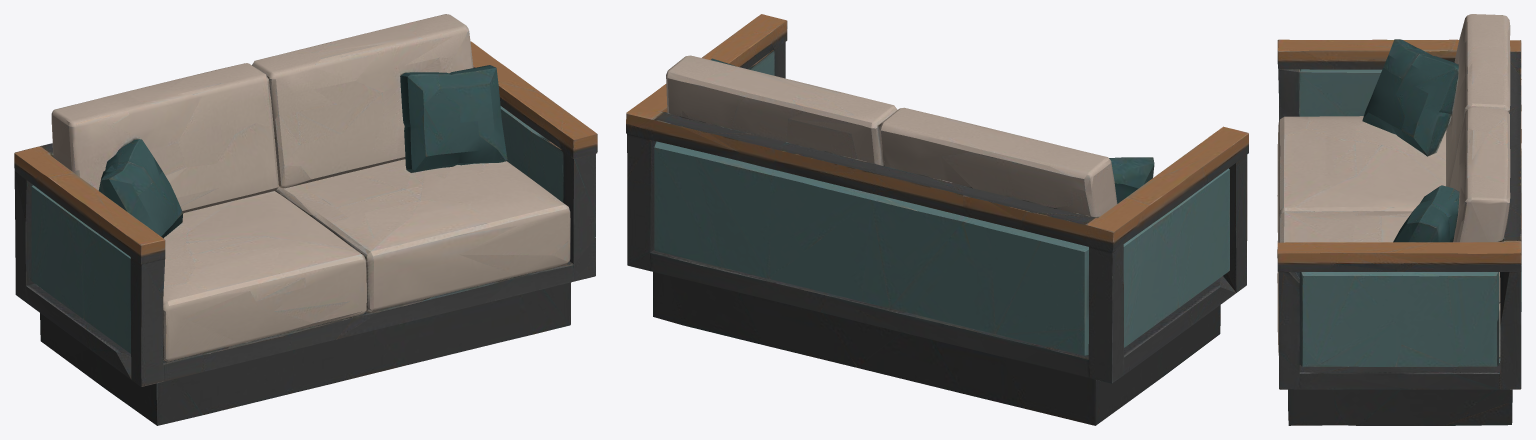
The model's file is model-lounge-sofa-ca25a4f0726f.glb.
The picture shows the model from 3 angles, left to right: view 1: azimuth 30°, elevation 25°; view 2: azimuth 150°, elevation 25°; view 3: azimuth 270°, elevation 25°; orthographic projection. The views are drawn at different scales.
Parts seen in each view (by area): view 1: Mesh_0; view 2: Mesh_0; view 3: Mesh_0.
Part boxes in pixels (left/top/right/bottom): Mesh_0: left=14, top=14, right=597, bottom=425; Mesh_0: left=626, top=14, right=1248, bottom=425; Mesh_0: left=1277, top=14, right=1521, bottom=425.
Bounding box in the file's own units: 1.5 × 0.7325 × 0.7235.
Materials: 1 (1 with a texture image).
